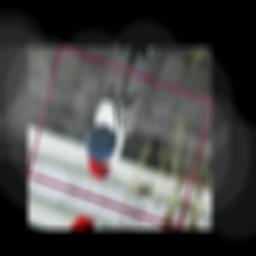Woodpecker: (75, 74, 143, 189)
